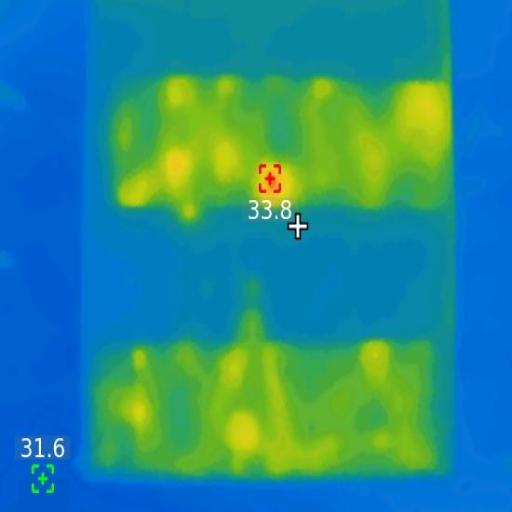hotspot: (258, 163, 285, 198)
